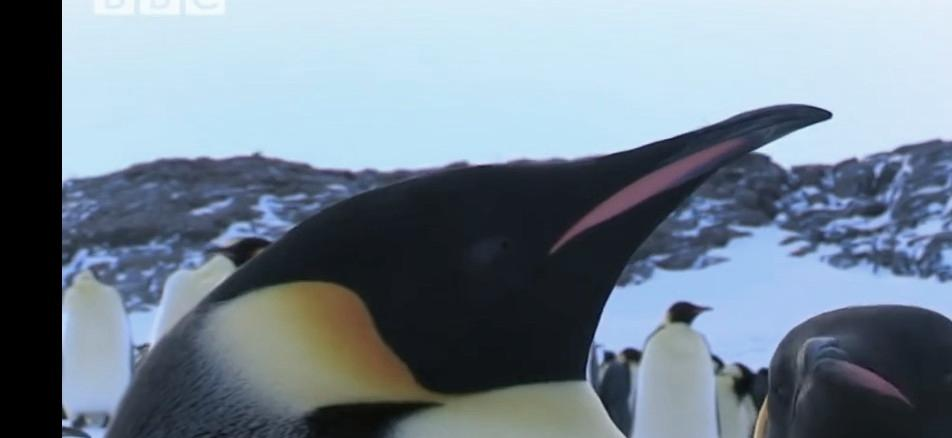Emperor Penguin: (65, 82, 862, 438), (676, 282, 952, 438), (622, 294, 728, 438)
